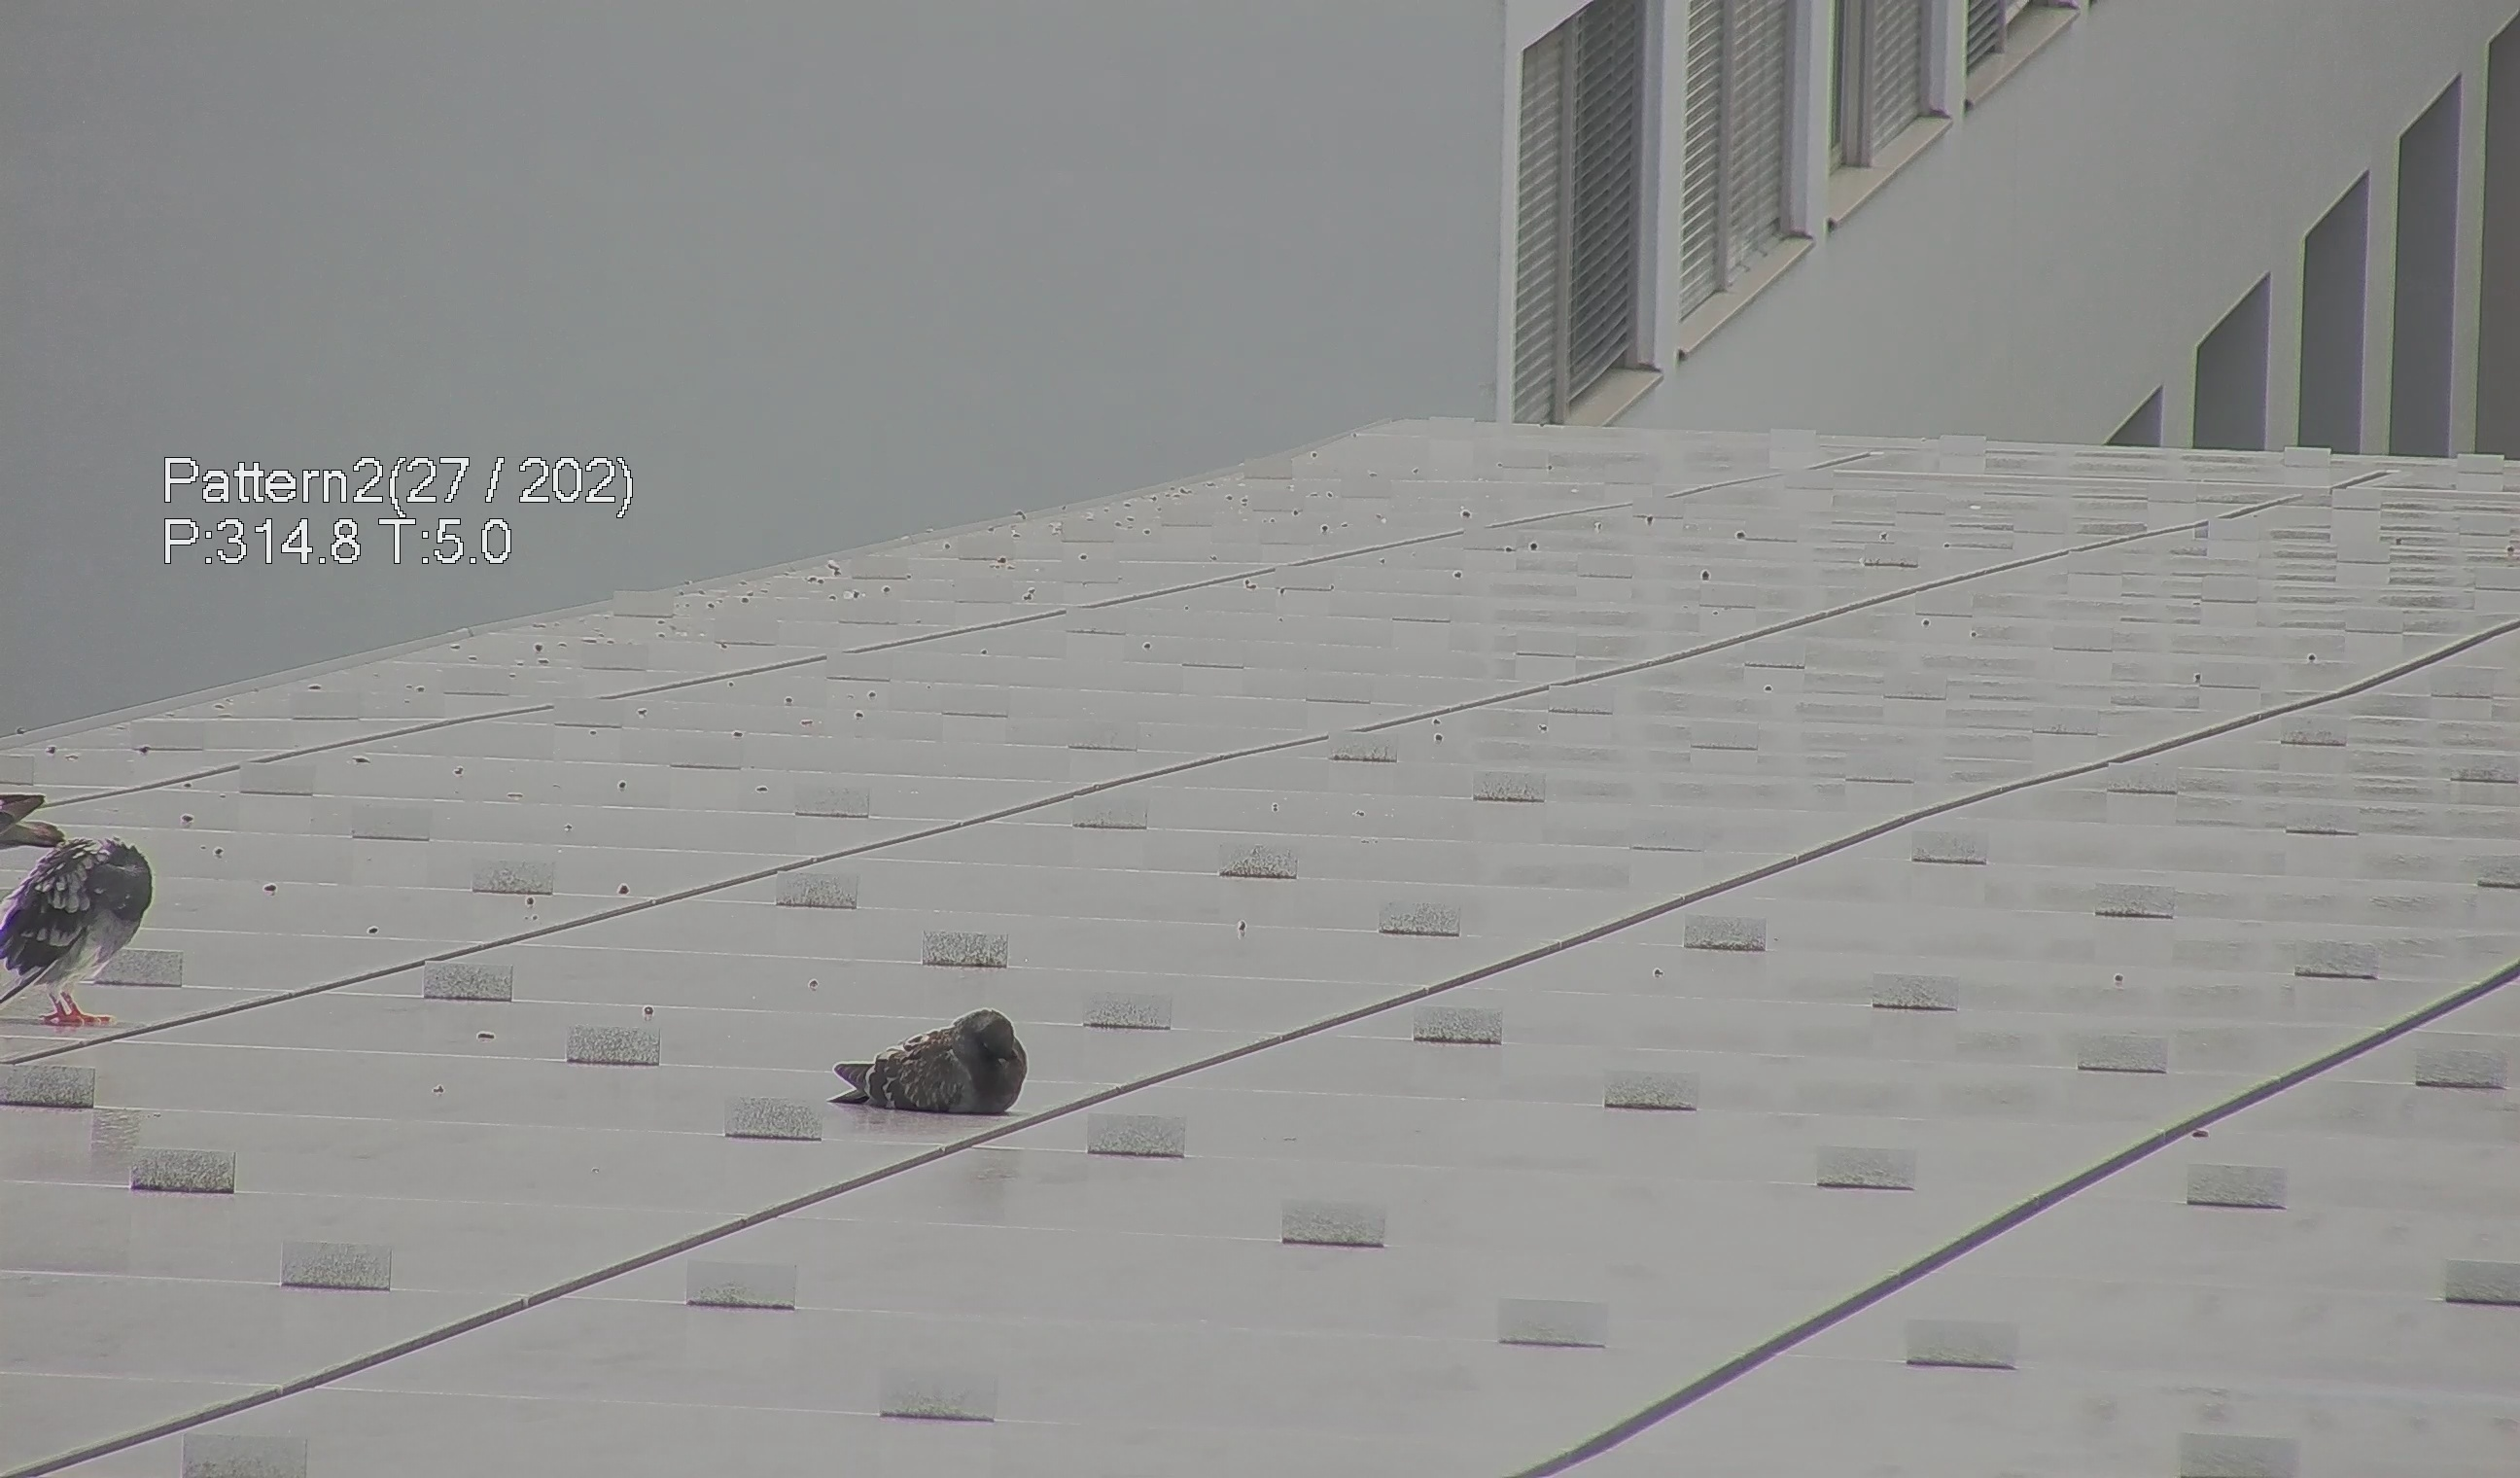Pigeon: (4, 823, 160, 1021), (827, 1003, 1032, 1126)
